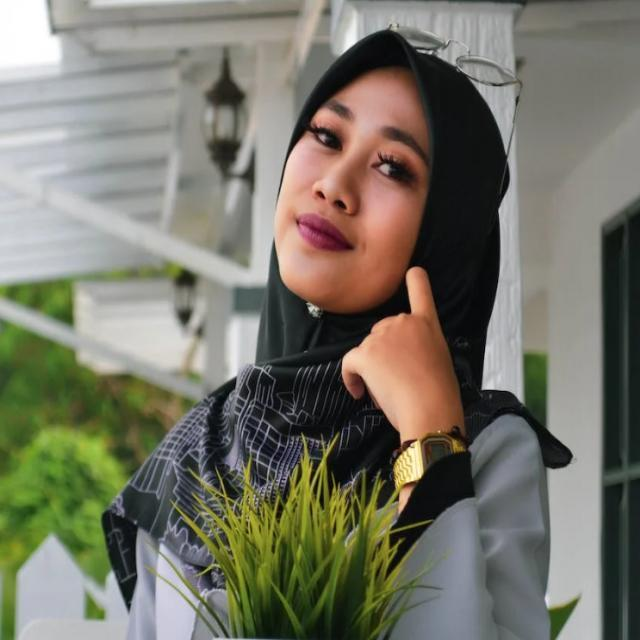Watch: (388, 426, 471, 490)
